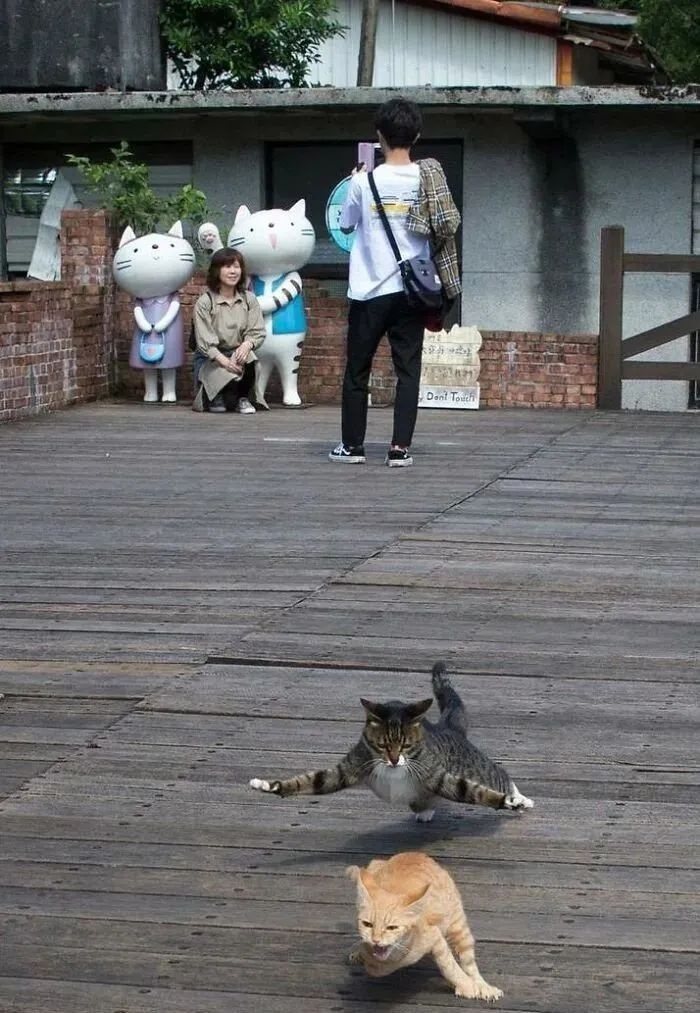cat: (245, 660, 536, 825), (347, 850, 502, 1003)
